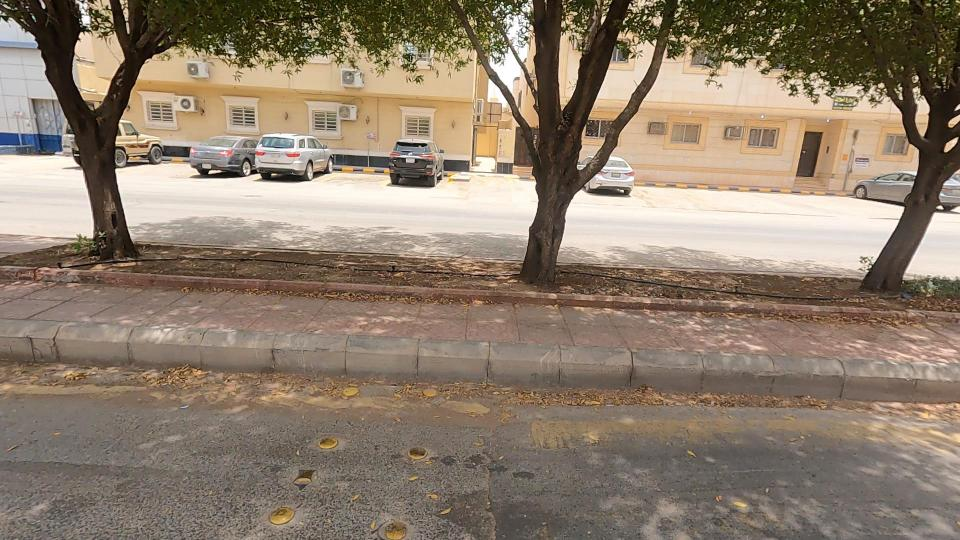CLUTTER_SIDEWALK: (93, 214, 516, 312)
